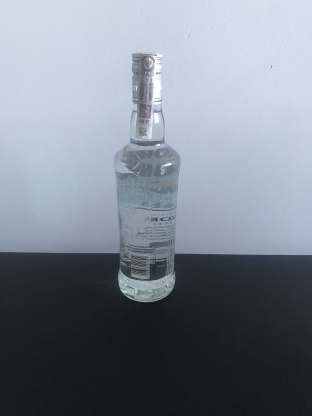nakretka: (128, 50, 165, 106)
